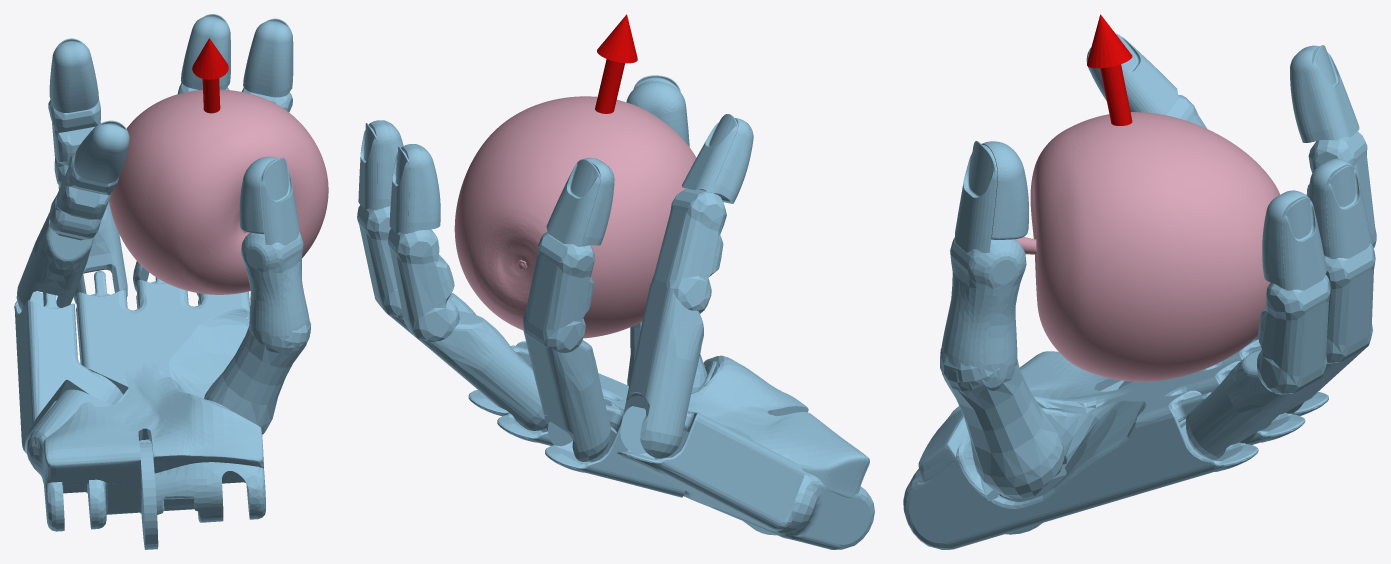
3 views of the same model, side by side, from view 1: azimuth 30°, elevation 25°; view 2: azimuth 150°, elevation 25°; view 3: azimuth 270°, elevation 25° (orthographic). The views are drawn at different scales.
Visible parts, largest first — view 1: world, apple.stl; view 2: world, apple.stl; view 3: world, apple.stl.
Boxes of the visible parts, x1=… form: world: x1=14, y1=14, x2=311, y2=549; apple.stl: x1=109, y1=89, x2=328, y2=294; world: x1=357, y1=14, x2=874, y2=549; apple.stl: x1=454, y1=96, x2=696, y2=338; world: x1=903, y1=14, x2=1376, y2=549; apple.stl: x1=1016, y1=112, x2=1279, y2=381.
Size of the model in its own units: 0.143 by 0.1804 by 0.1341.
